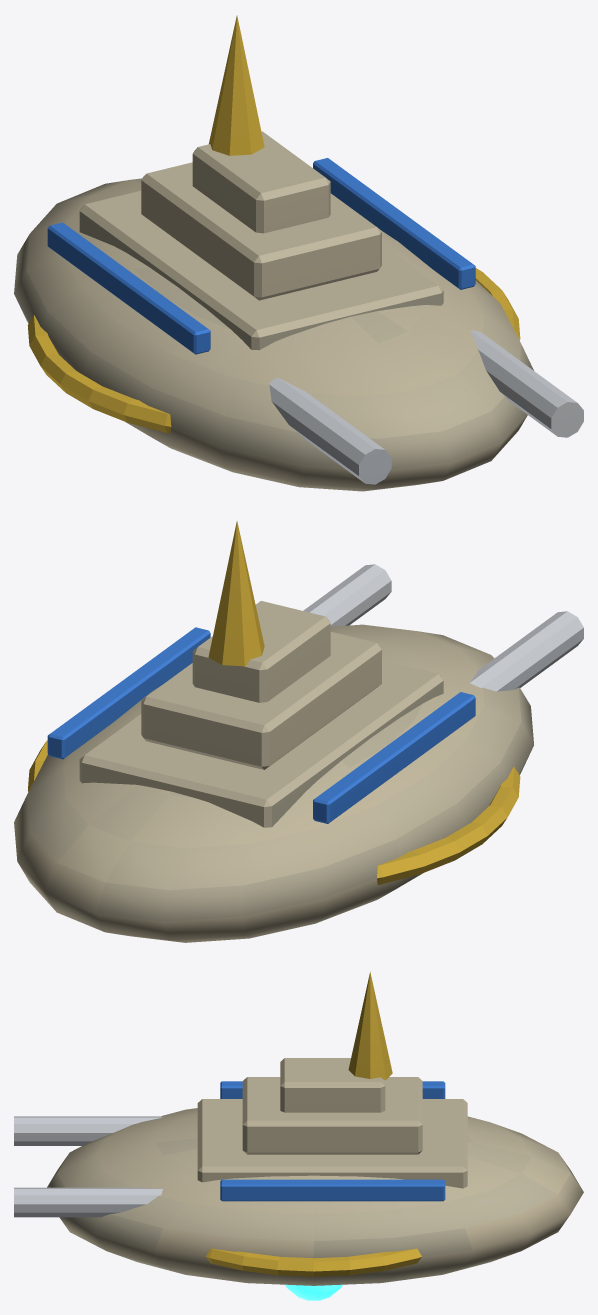
The model's file is behemoth.glb.
3 views of the same model, one above another, from view 1: azimuth 30°, elevation 25°; view 2: azimuth 150°, elevation 25°; view 3: azimuth 270°, elevation 25° (orthographic). The views are drawn at different scales.
Visible parts, largest first — view 1: behemoth; view 2: behemoth; view 3: behemoth.
Part boxes in pixels (box(x1,y1,x2,y2)): behemoth: box(14, 15, 583, 491); behemoth: box(14, 521, 583, 942); behemoth: box(14, 972, 583, 1300).
Bounding box in the file's own units: 2 × 1.92 × 3.04.
